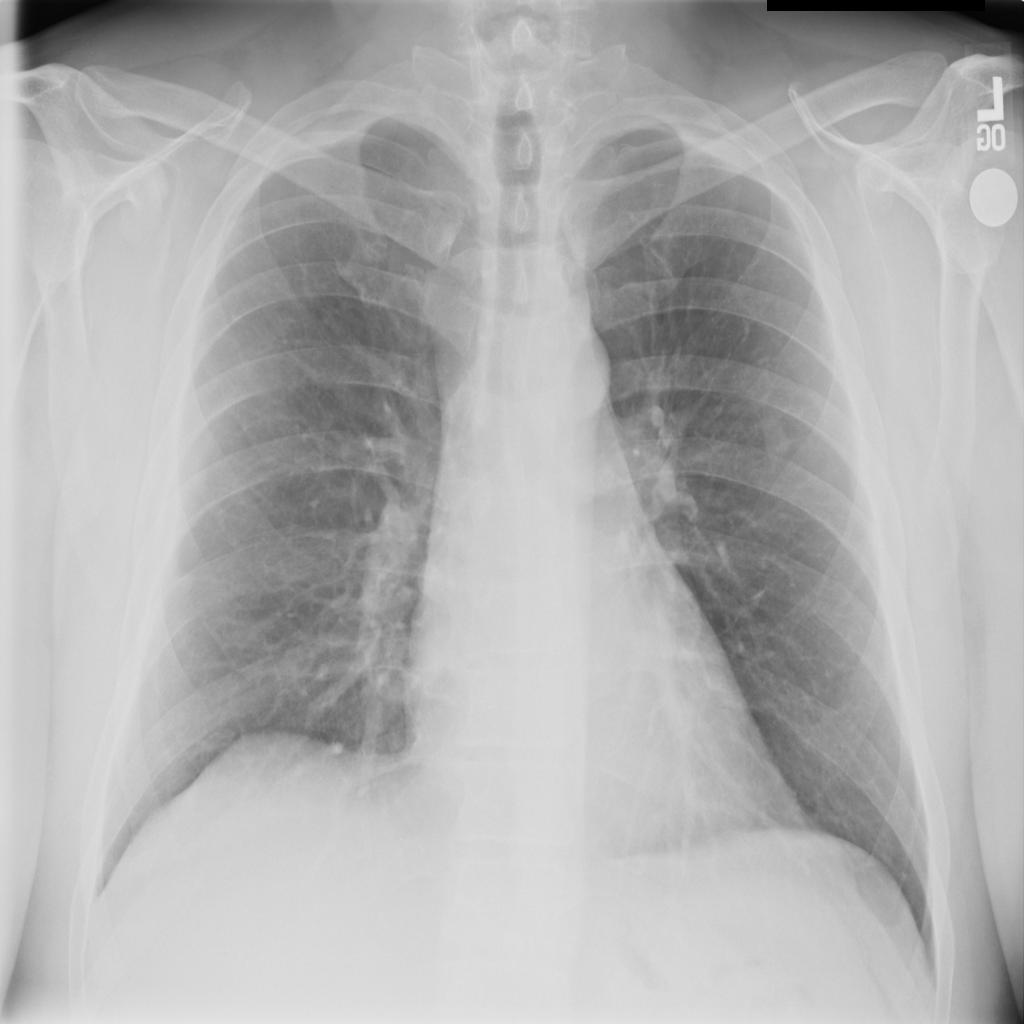nodule: (744, 397, 808, 477)
